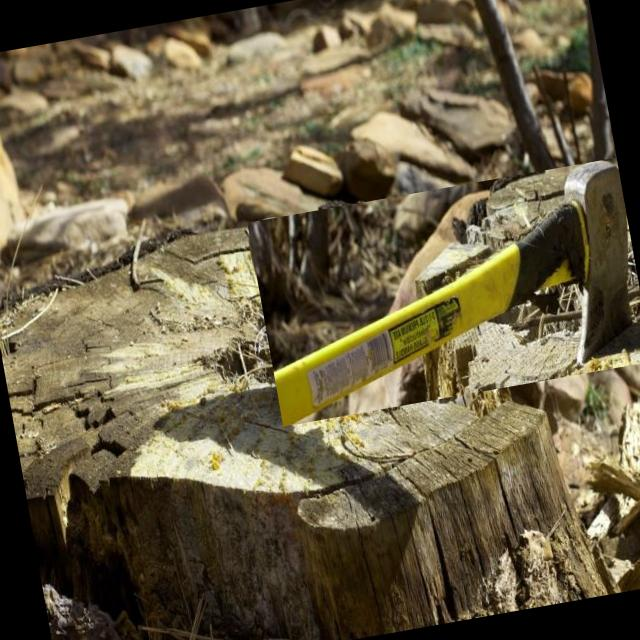Axe: (274, 160, 630, 426)
